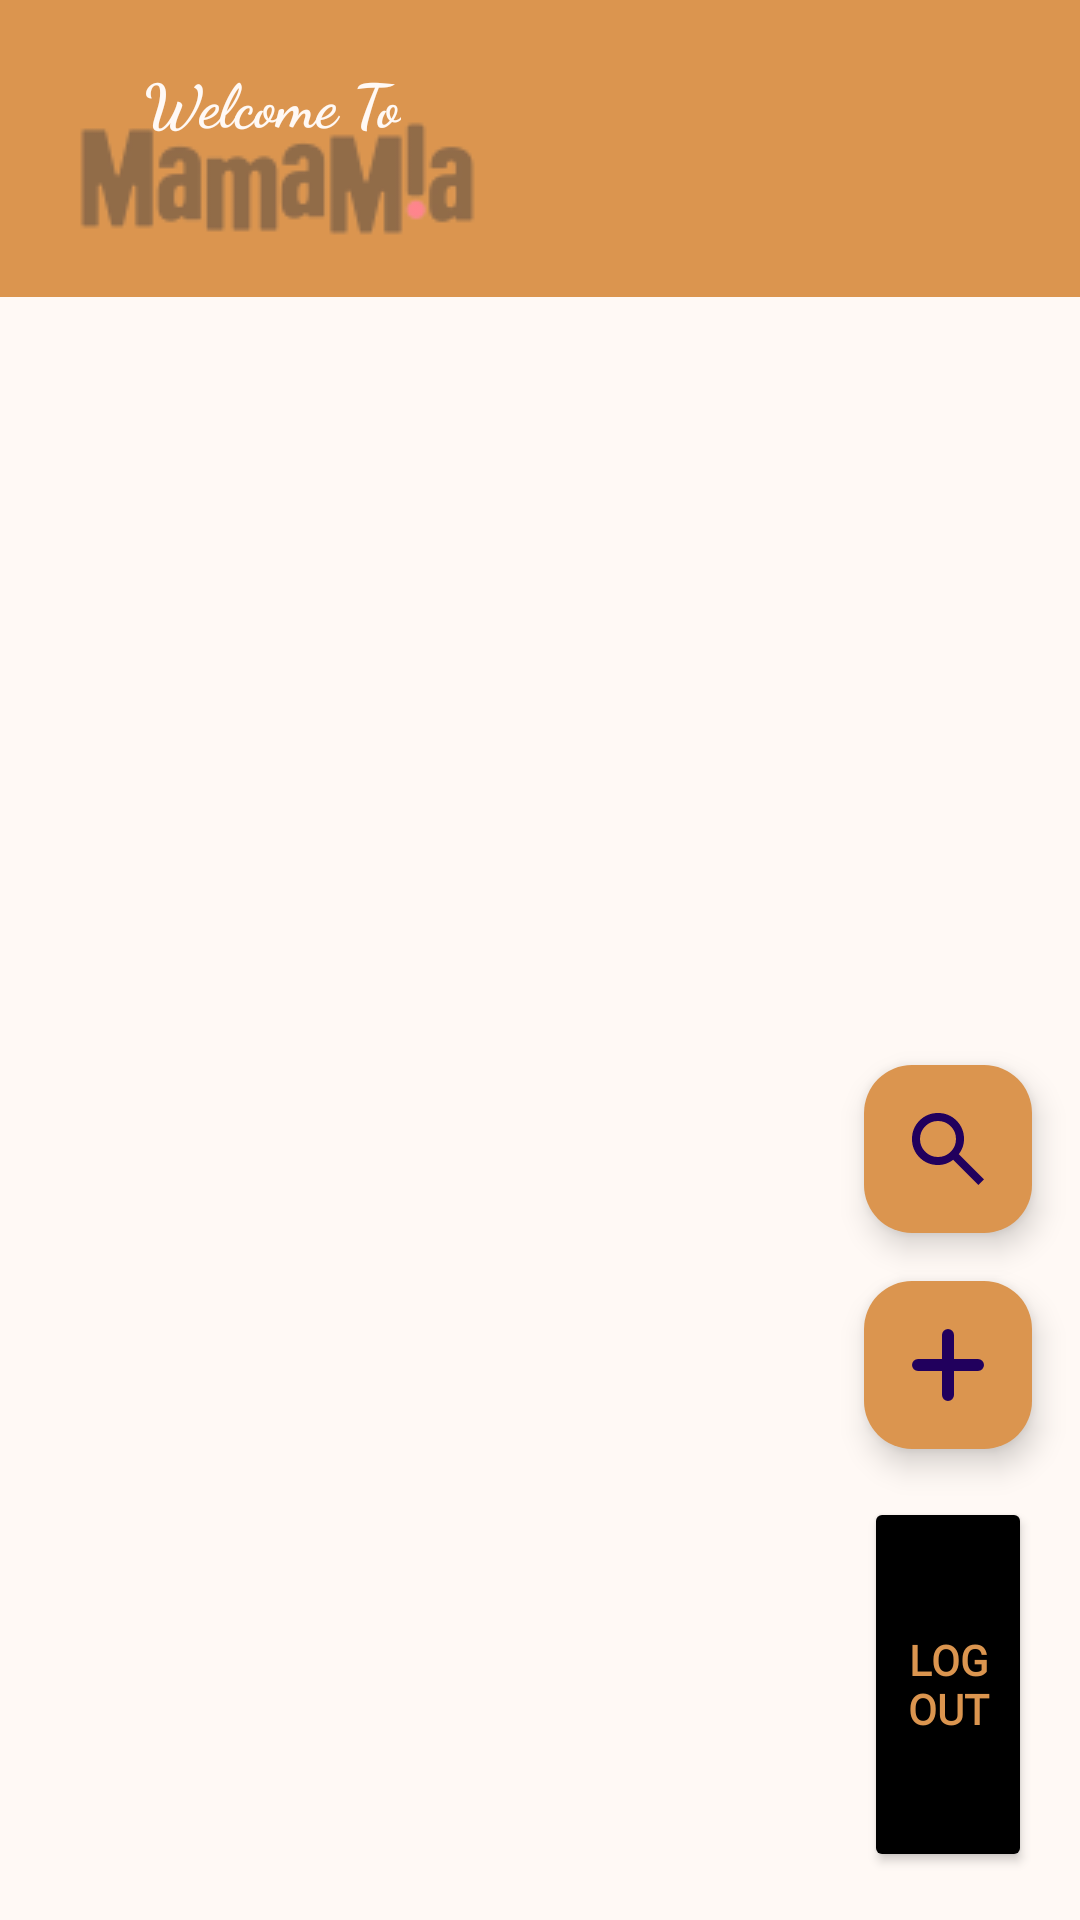

Where icons sit on this 1080 x 1920 app screen, as Rect(x1, y1, x2, y2):
add: Rect(864, 1281, 1032, 1449)
search: Rect(864, 1065, 1032, 1233)
